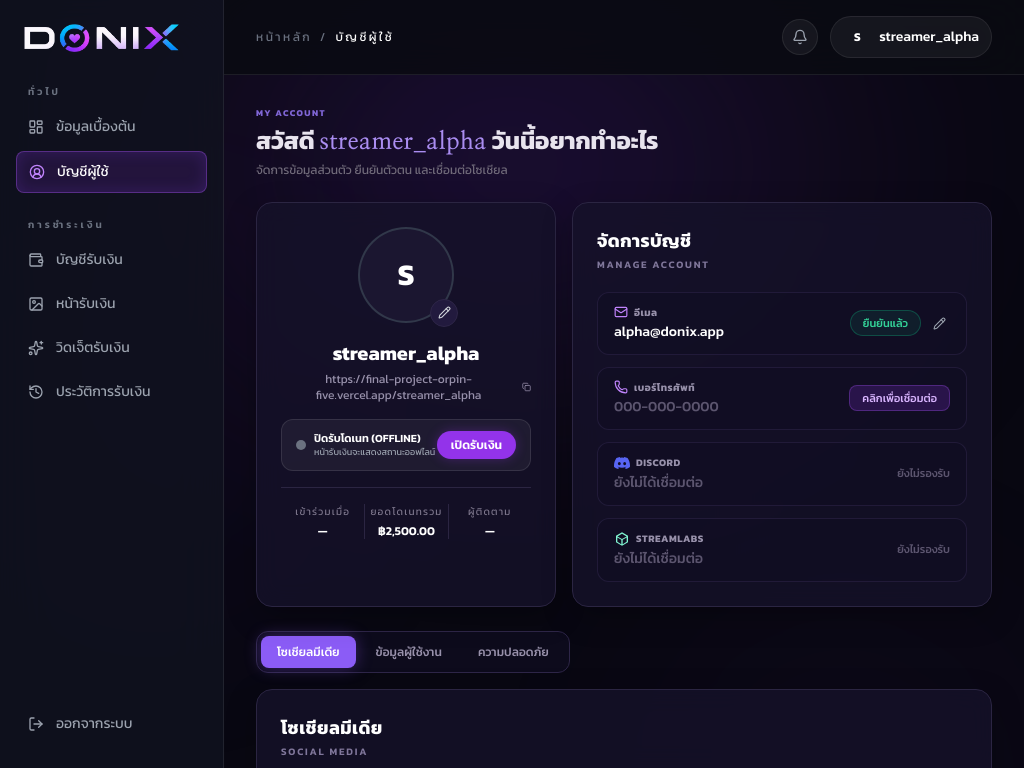
Account Page Integration › displays error notification when updateCurrentUser fails
Expected: the text "My Account" is shown, [256,106,326,120]
Switch to User Info tab
Click the button "ข้อมูลผู้ใช้งาน". click: click(409, 652)
box: [360,636,458,668]
(page scrolled)
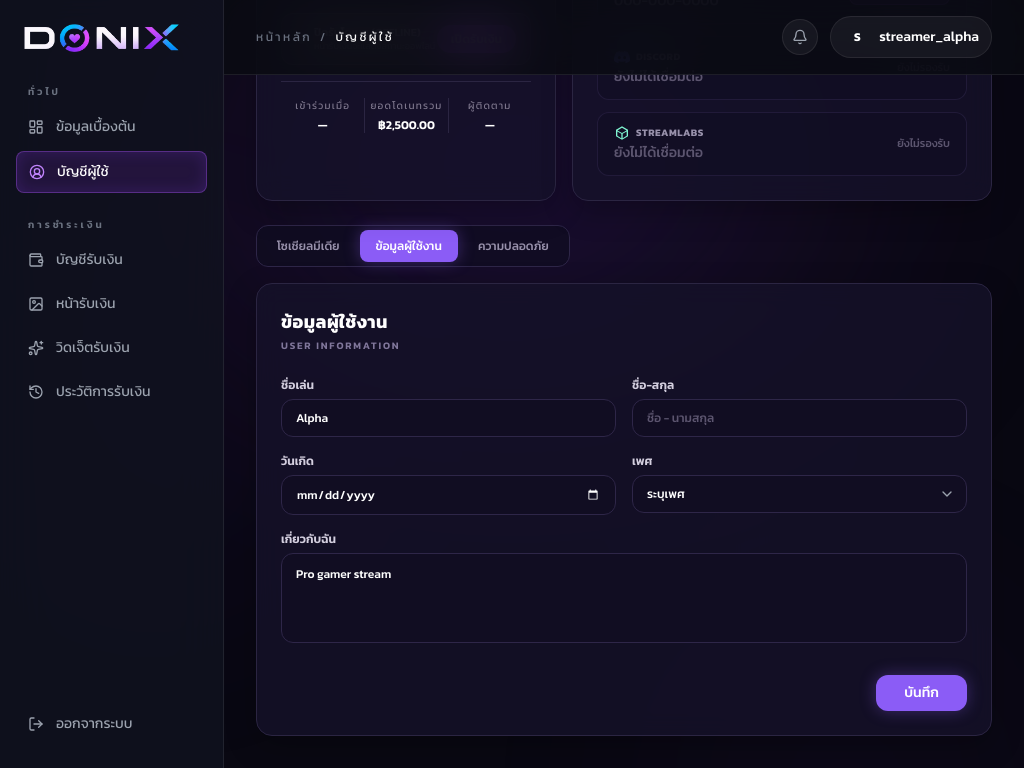
Click the button "บันทึก". click: click(922, 692)
box: [876,674,967,710]
(page scrolled)
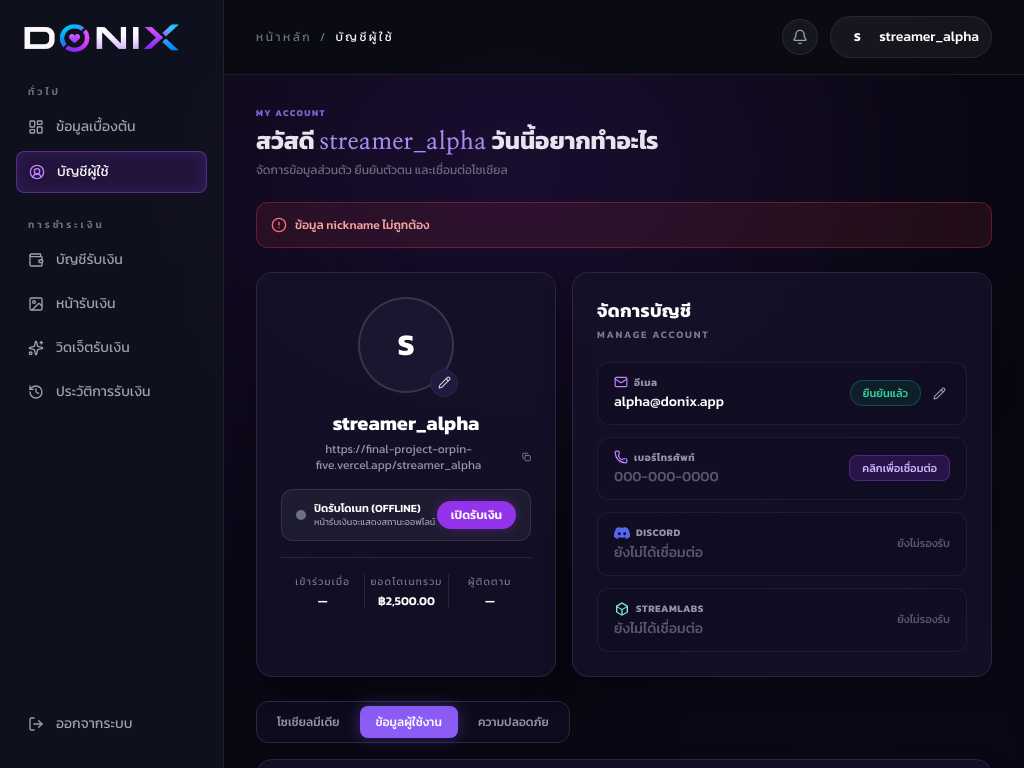
Result: the text "ข้อมูล nickname ไม่ถูกต้อง" is shown at [295,216,429,232]
